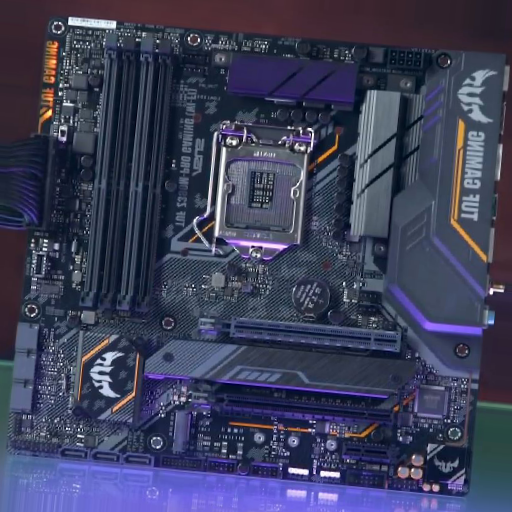CPU: (217, 122, 311, 261)
GPU: (191, 386, 396, 431), (198, 316, 401, 353)
MOTHERBOARD: (14, 18, 473, 497)
RAM: (80, 33, 175, 311)
SSD: (168, 411, 195, 454)
